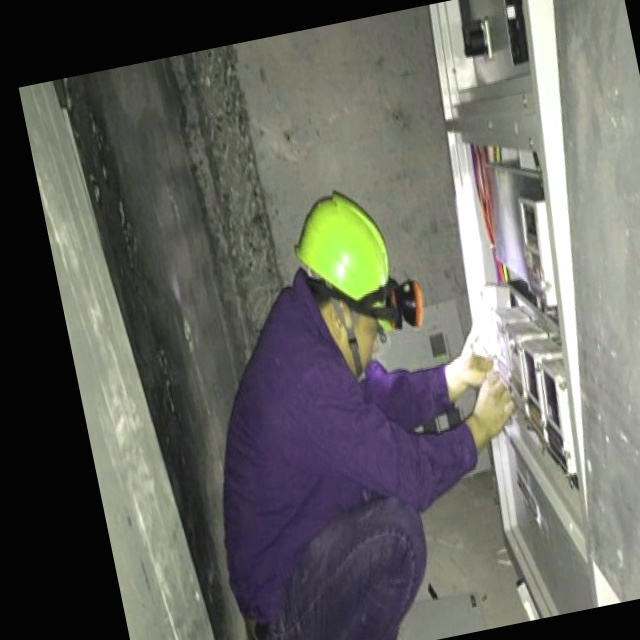Con_Casco: (285, 184, 406, 355)
